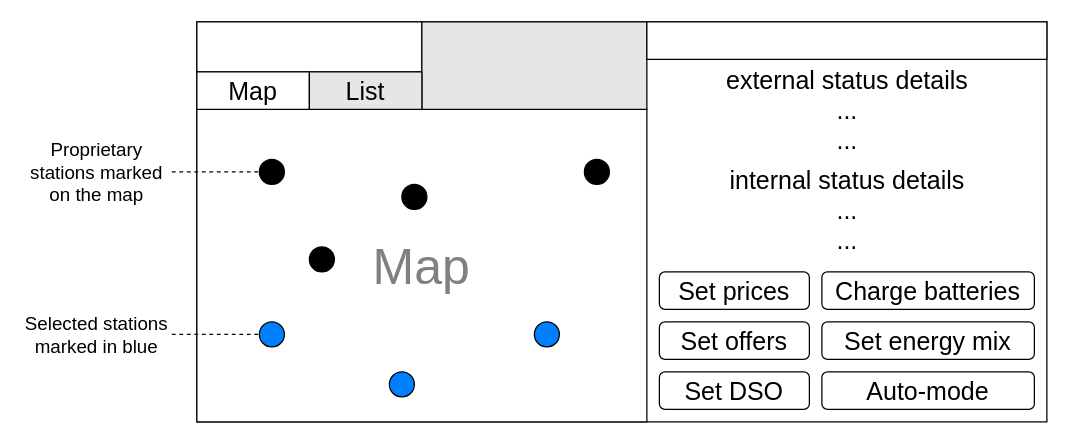
Image size: 1069x444. Some labels were removed from this diagram. The shapes that lost their labels are listed below. From the top down, each one's centre as x and y in pixels, then its label:
At [309,46]: "Stations".
At [846,40]: "Details".
At [534,65]: "DSO".
